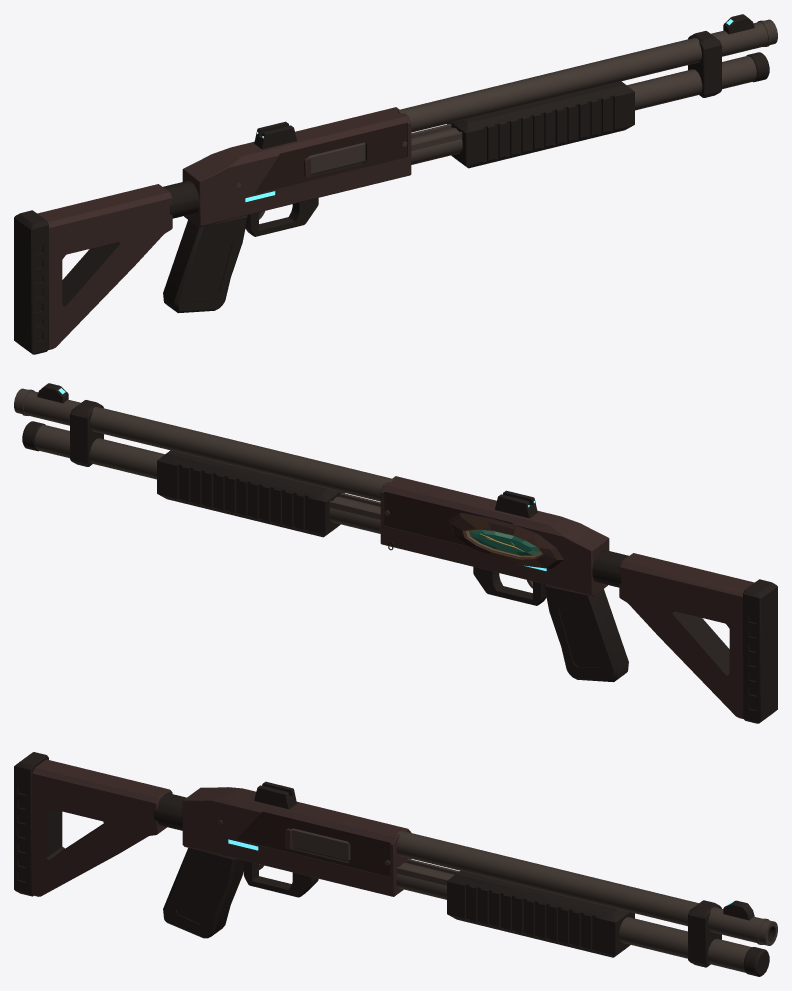
File: Bucky_Rootglass_v01.fbx
3 views of the same model, one above another, from view 1: azimuth 30°, elevation 25°; view 2: azimuth 150°, elevation 25°; view 3: azimuth 330°, elevation 25° (orthographic).
Visible parts, largest first — view 1: Bucky_Stock, Bucky_Receiver, Bucky_Barrel, Bucky_Pump, Bucky_Grip, Bucky_Sights, Bucky_Bolt; view 2: Bucky_Stock, Bucky_Barrel, Bucky_Receiver, Bucky_Pump, Bucky_Grip, Rootglass_Left_CarvedShell, Bucky_Sights, Rootglass_Left_FacetedMineral; view 3: Bucky_Barrel, Bucky_Receiver, Bucky_Stock, Bucky_Pump, Bucky_Grip, Bucky_Sights, Bucky_Bolt.
Part boxes in pixels (x1,y1,x2,y2): Bucky_Stock: (14,180,199,354); Bucky_Receiver: (182,107,411,236); Bucky_Barrel: (397,19,777,164); Bucky_Pump: (411,81,634,168); Bucky_Grip: (163,215,247,313); Bucky_Sights: (254,14,754,149); Bucky_Bolt: (308,142,365,174); Bucky_Stock: (592,549,777,723); Bucky_Barrel: (14,388,394,533); Bucky_Receiver: (380,476,609,605); Bucky_Pump: (157,450,380,537); Bucky_Grip: (544,584,628,682); Rootglass_Left_CarvedShell: (448,512,563,568); Bucky_Sights: (37,383,537,518); Rootglass_Left_FacetedMineral: (469,530,540,555); Bucky_Barrel: (396,831,777,976); Bucky_Receiver: (182,787,411,897); Bucky_Stock: (14,752,186,896); Bucky_Pump: (396,859,634,957); Bucky_Grip: (163,848,243,938); Bucky_Sights: (254,781,754,920); Bucky_Bolt: (291,828,350,860).
Bounding box in the file's own units: 378 × 78.48 × 19.5.
